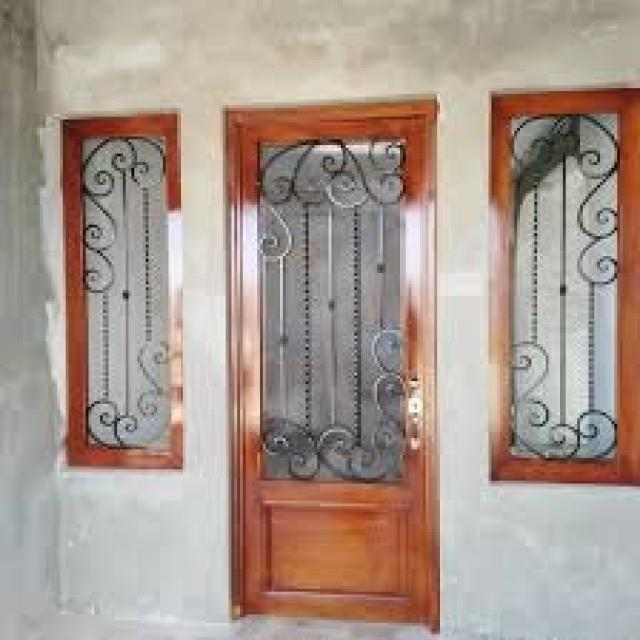door: (224, 96, 442, 632)
